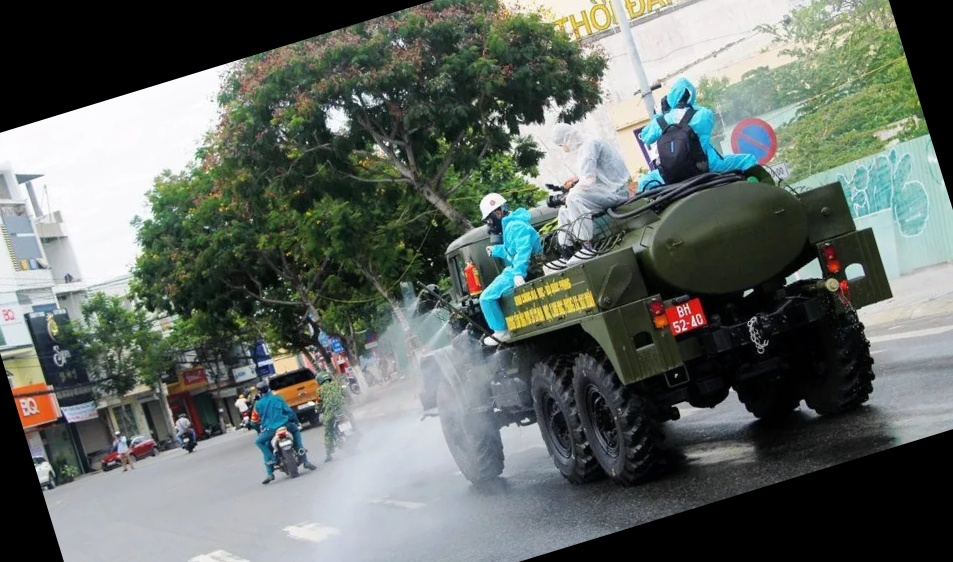plate: (662, 296, 707, 332)
